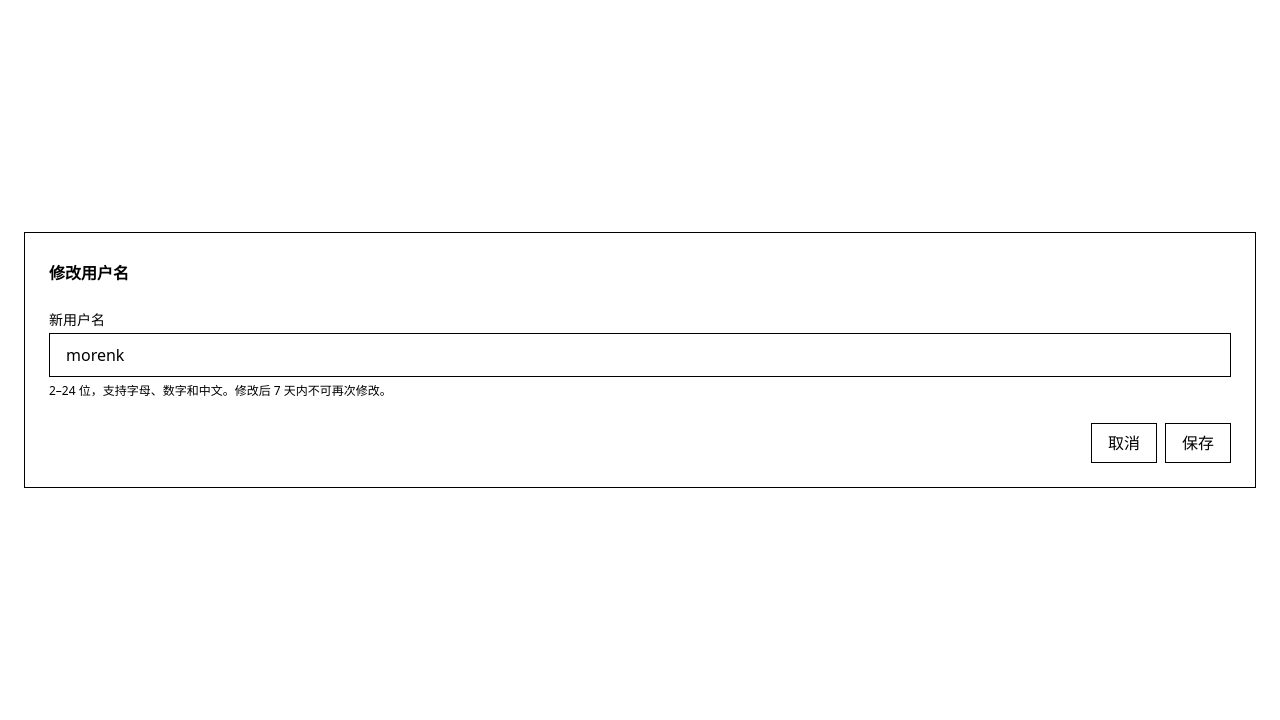
Test: UsernameEdit › 用户名冲突（40900）提示已被占用
The width and height of the screenshot is (1280, 720).
Replace the text in the field labelled "新用户名" with "taken" at (640, 355), box [49,333,1231,377]
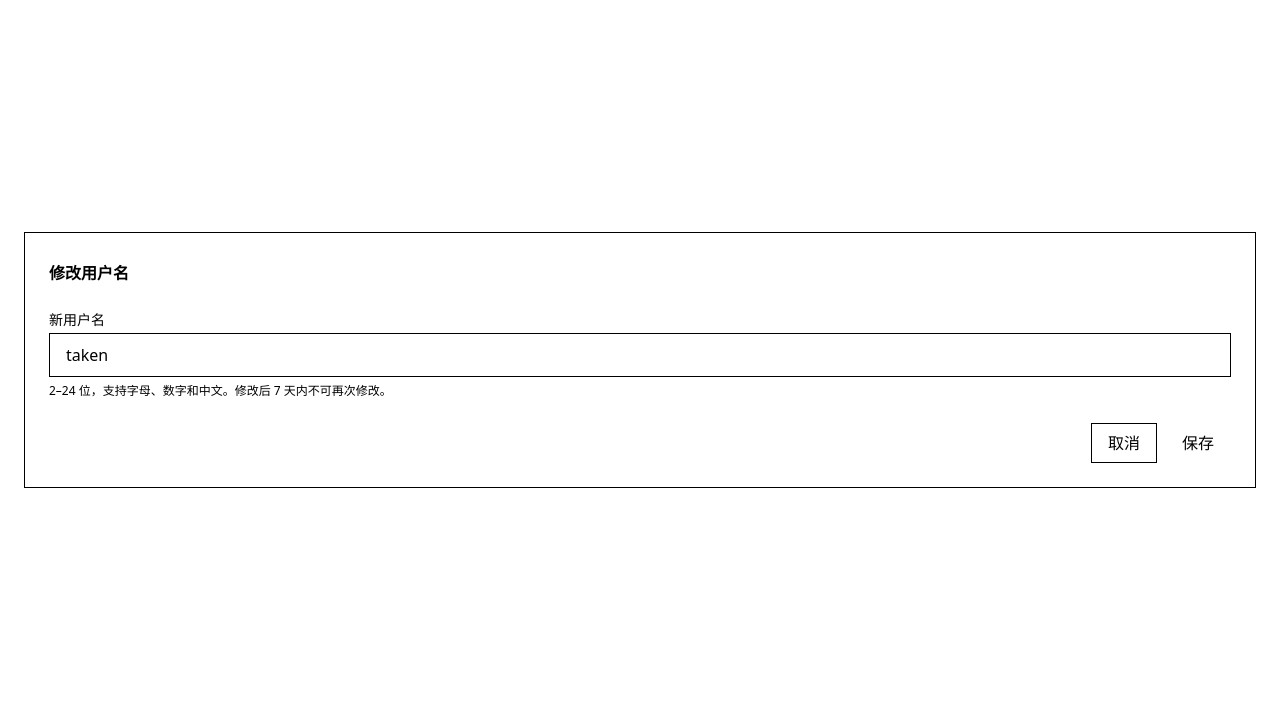
Click the button "保存" at (1198, 443), box [1165,423,1231,463]
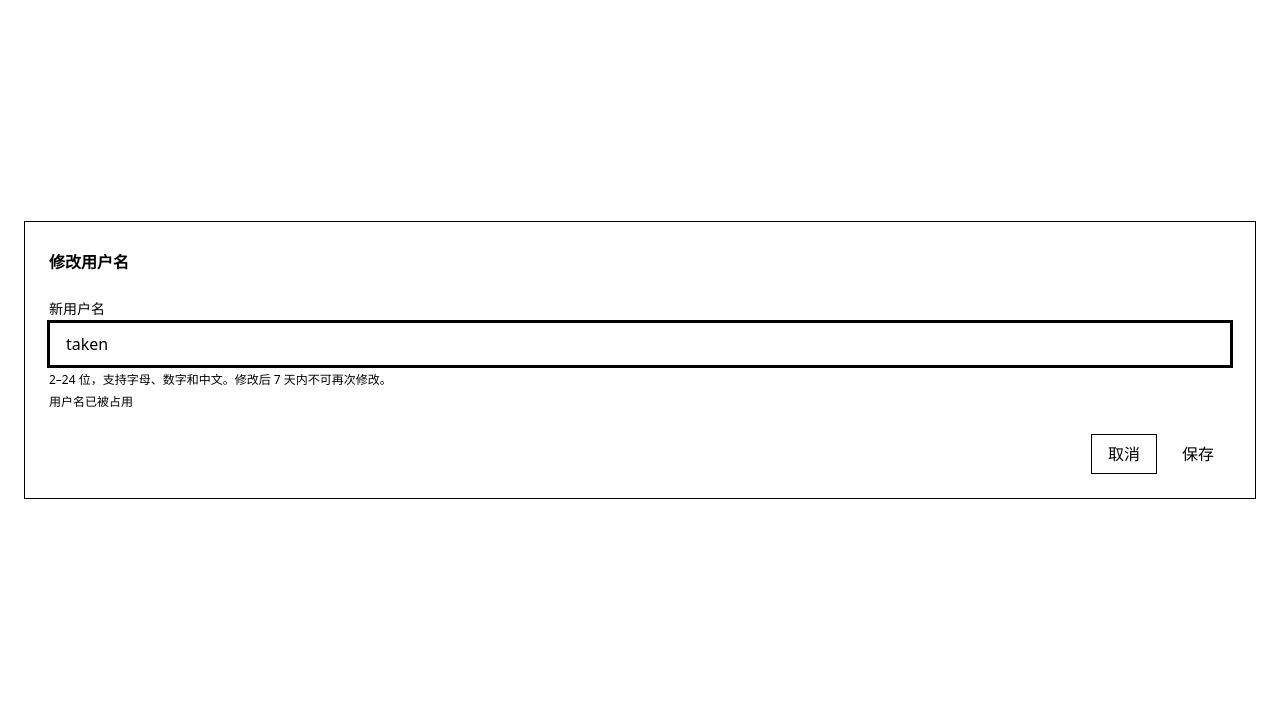
Expected: the text "用户名已被占用" is shown, [49,393,133,410]
